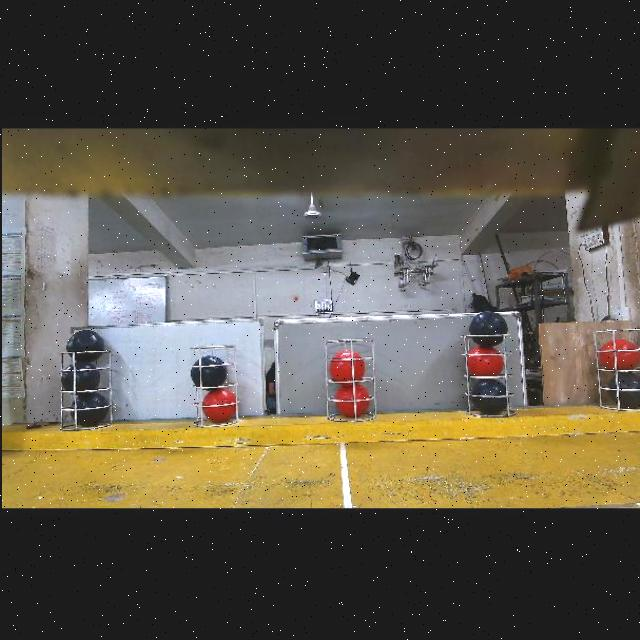P: (68, 389, 109, 425), (467, 310, 507, 346), (187, 355, 227, 388), (471, 376, 506, 413), (59, 359, 99, 390), (607, 370, 640, 407), (67, 328, 101, 361)
R: (327, 348, 364, 384), (602, 338, 639, 372), (466, 343, 502, 376), (202, 386, 235, 421), (334, 383, 368, 416)
S: (459, 326, 515, 418), (322, 334, 378, 424), (55, 347, 115, 429), (191, 339, 243, 428), (590, 324, 640, 408)
